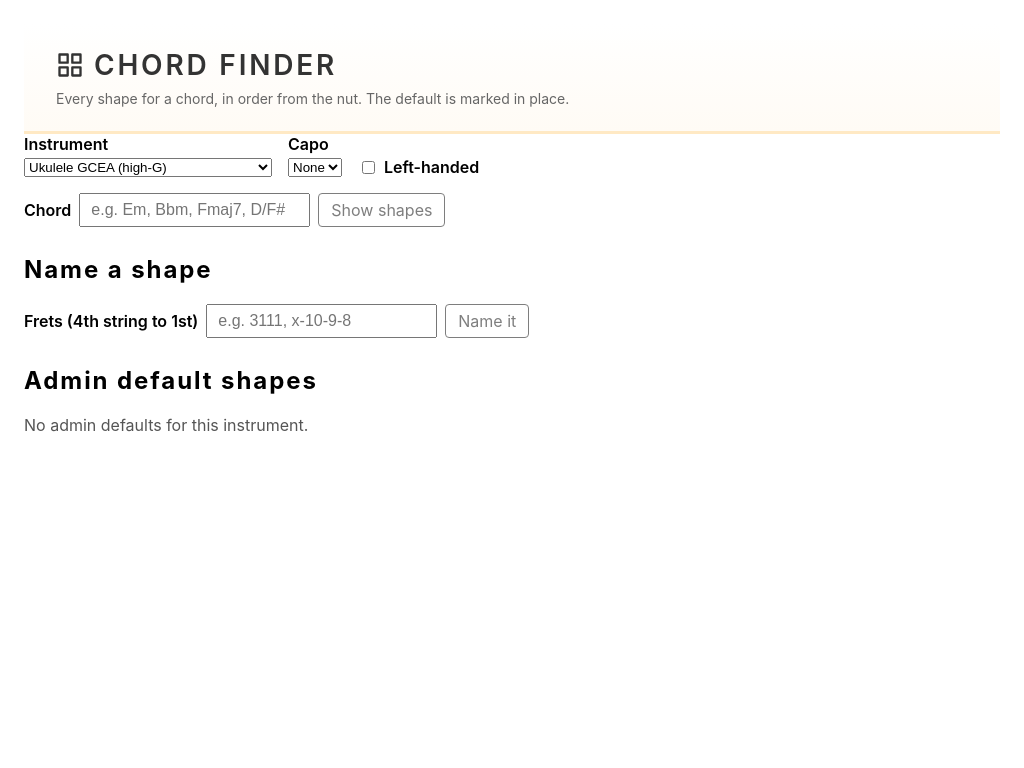
Scenario: ChordFinder › Make default sends the chord and frets, then reloads the shapes and the defaults list
Type "Em" into the field labelled "Chord".
click(195, 210); type("Em")  # box [79,193,310,227]
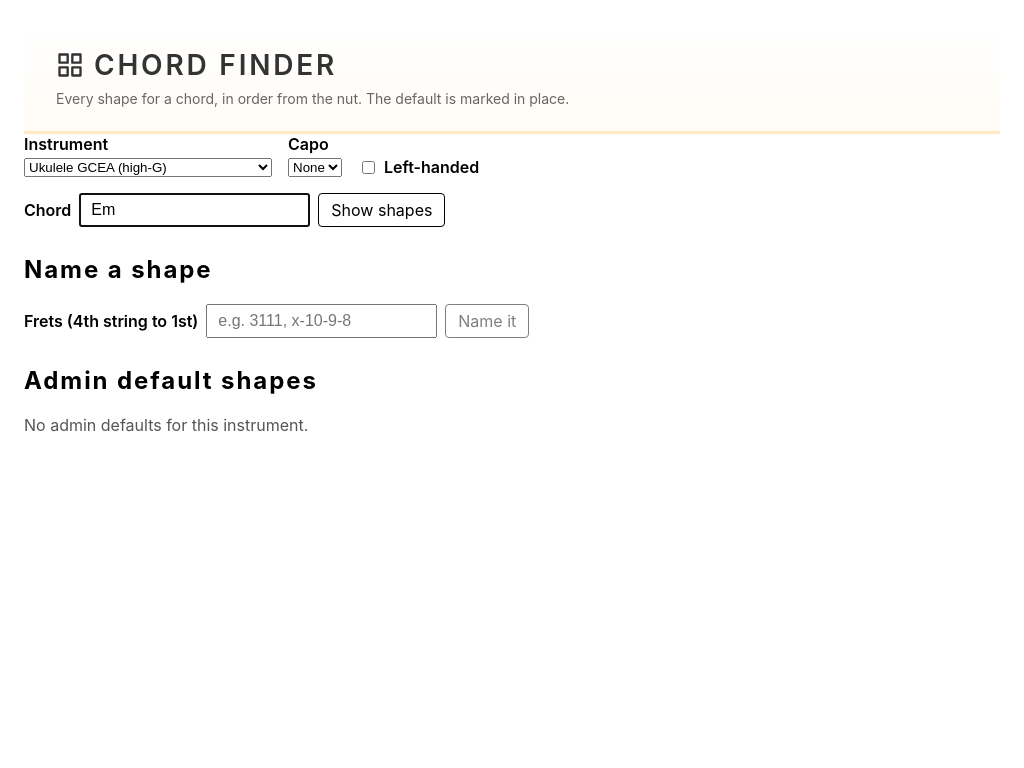
Click the button "Show shapes".
click(382, 210)  # box [318,193,445,227]
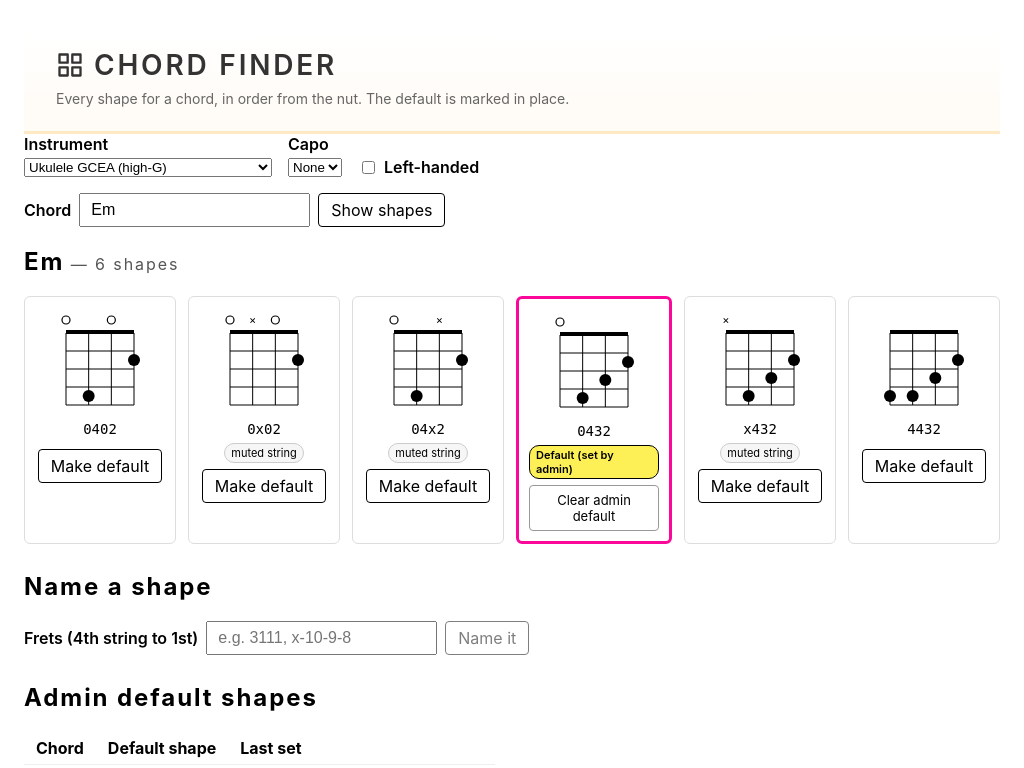
Click the button "Make default" below "0402".
click(100, 466)  # box [38,449,162,483]
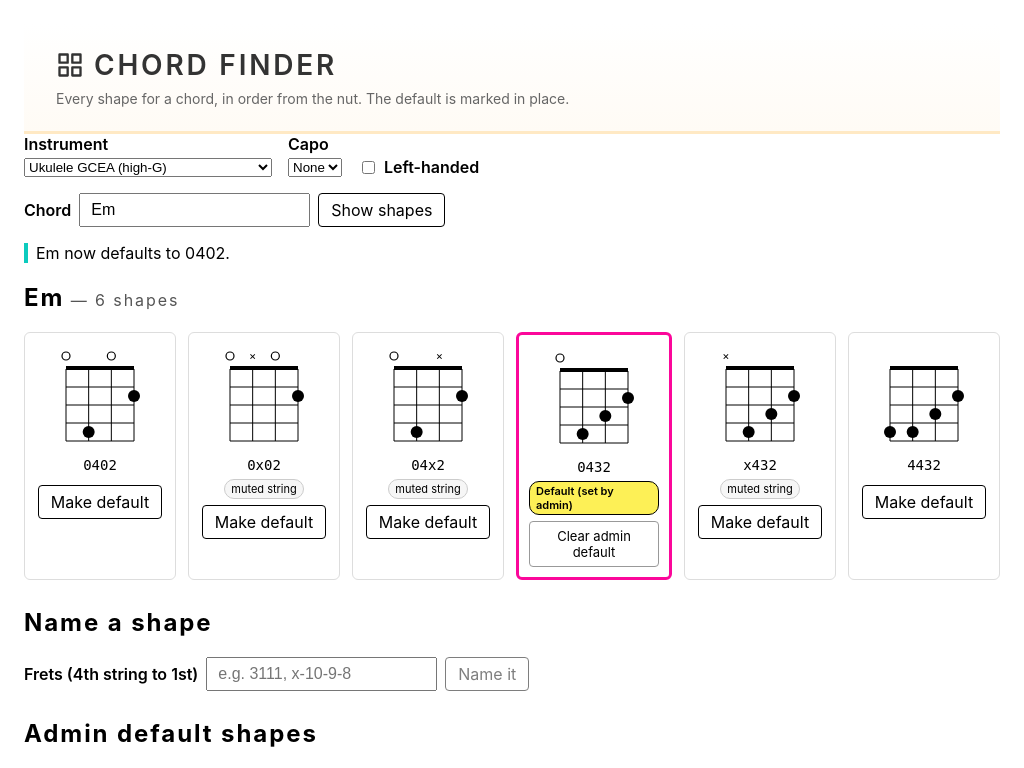
expect the message reads "Em now defaults to 0402.": met, box [36,243,230,263]
